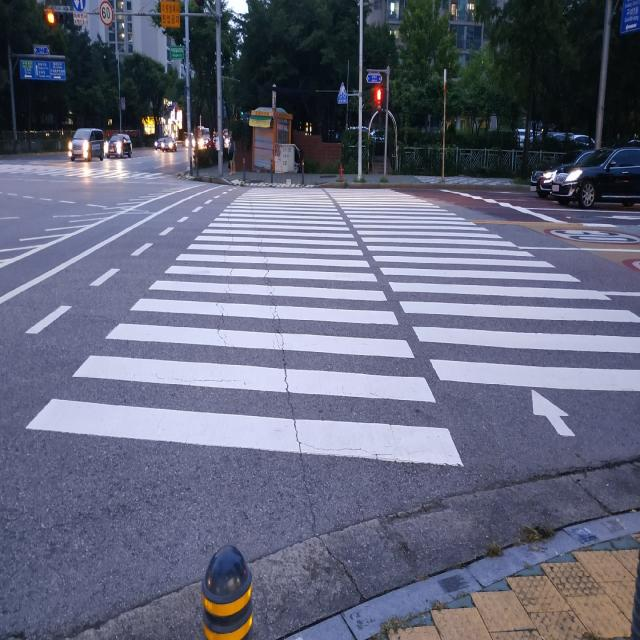횡단보도: (26, 185, 640, 469)
